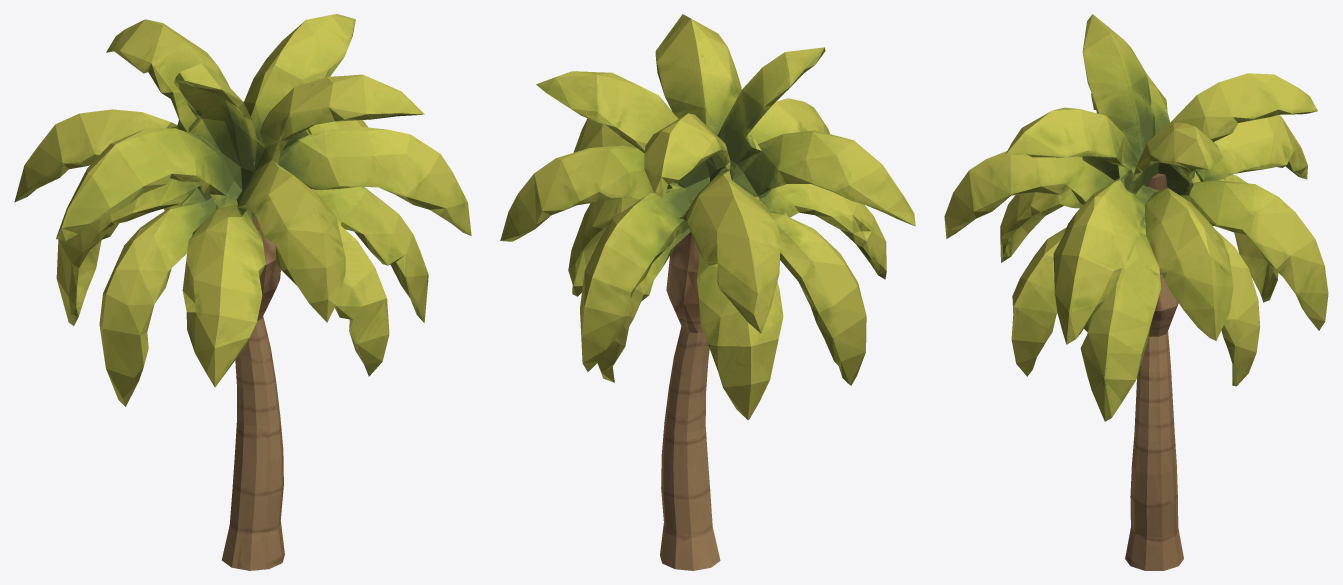
File: palm_c.glb
3 views of the same model, side by side, from view 1: azimuth 30°, elevation 25°; view 2: azimuth 150°, elevation 25°; view 3: azimuth 270°, elevation 25° (orthographic). The views are drawn at different scales.
Visible parts, largest first — view 1: body; view 2: body; view 3: body.
Boxes of the visible parts, x1=… form: body: x1=14, y1=14, x2=471, y2=570; body: x1=500, y1=14, x2=915, y2=570; body: x1=944, y1=14, x2=1328, y2=570.
Bounding box in the file's own units: 3.42 × 4.51 × 3.17.
2 materials, 2 textured.
